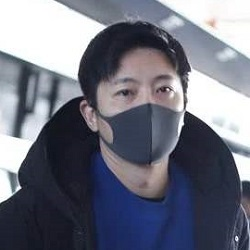mask: (82, 86, 181, 163)
